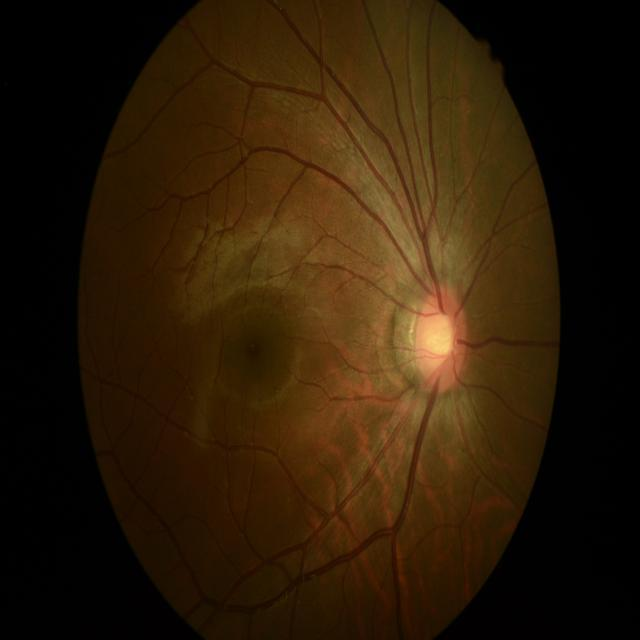cup: (424, 314, 457, 370)
disk: (414, 286, 467, 394)
